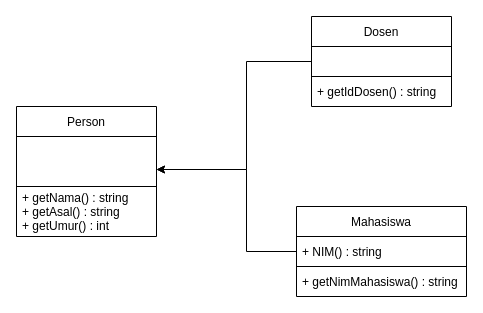
Image size: 483x313. Some labels were removed from this diagram. The shapes that lost their labels are listed below. From the top down, each one's centre as x and y in pixels, then its label:
At point 381,61: "+ IdDosen() : string".
At point 86,161: "+ Nama() : string + Alamat() : string + Umur() : int".
